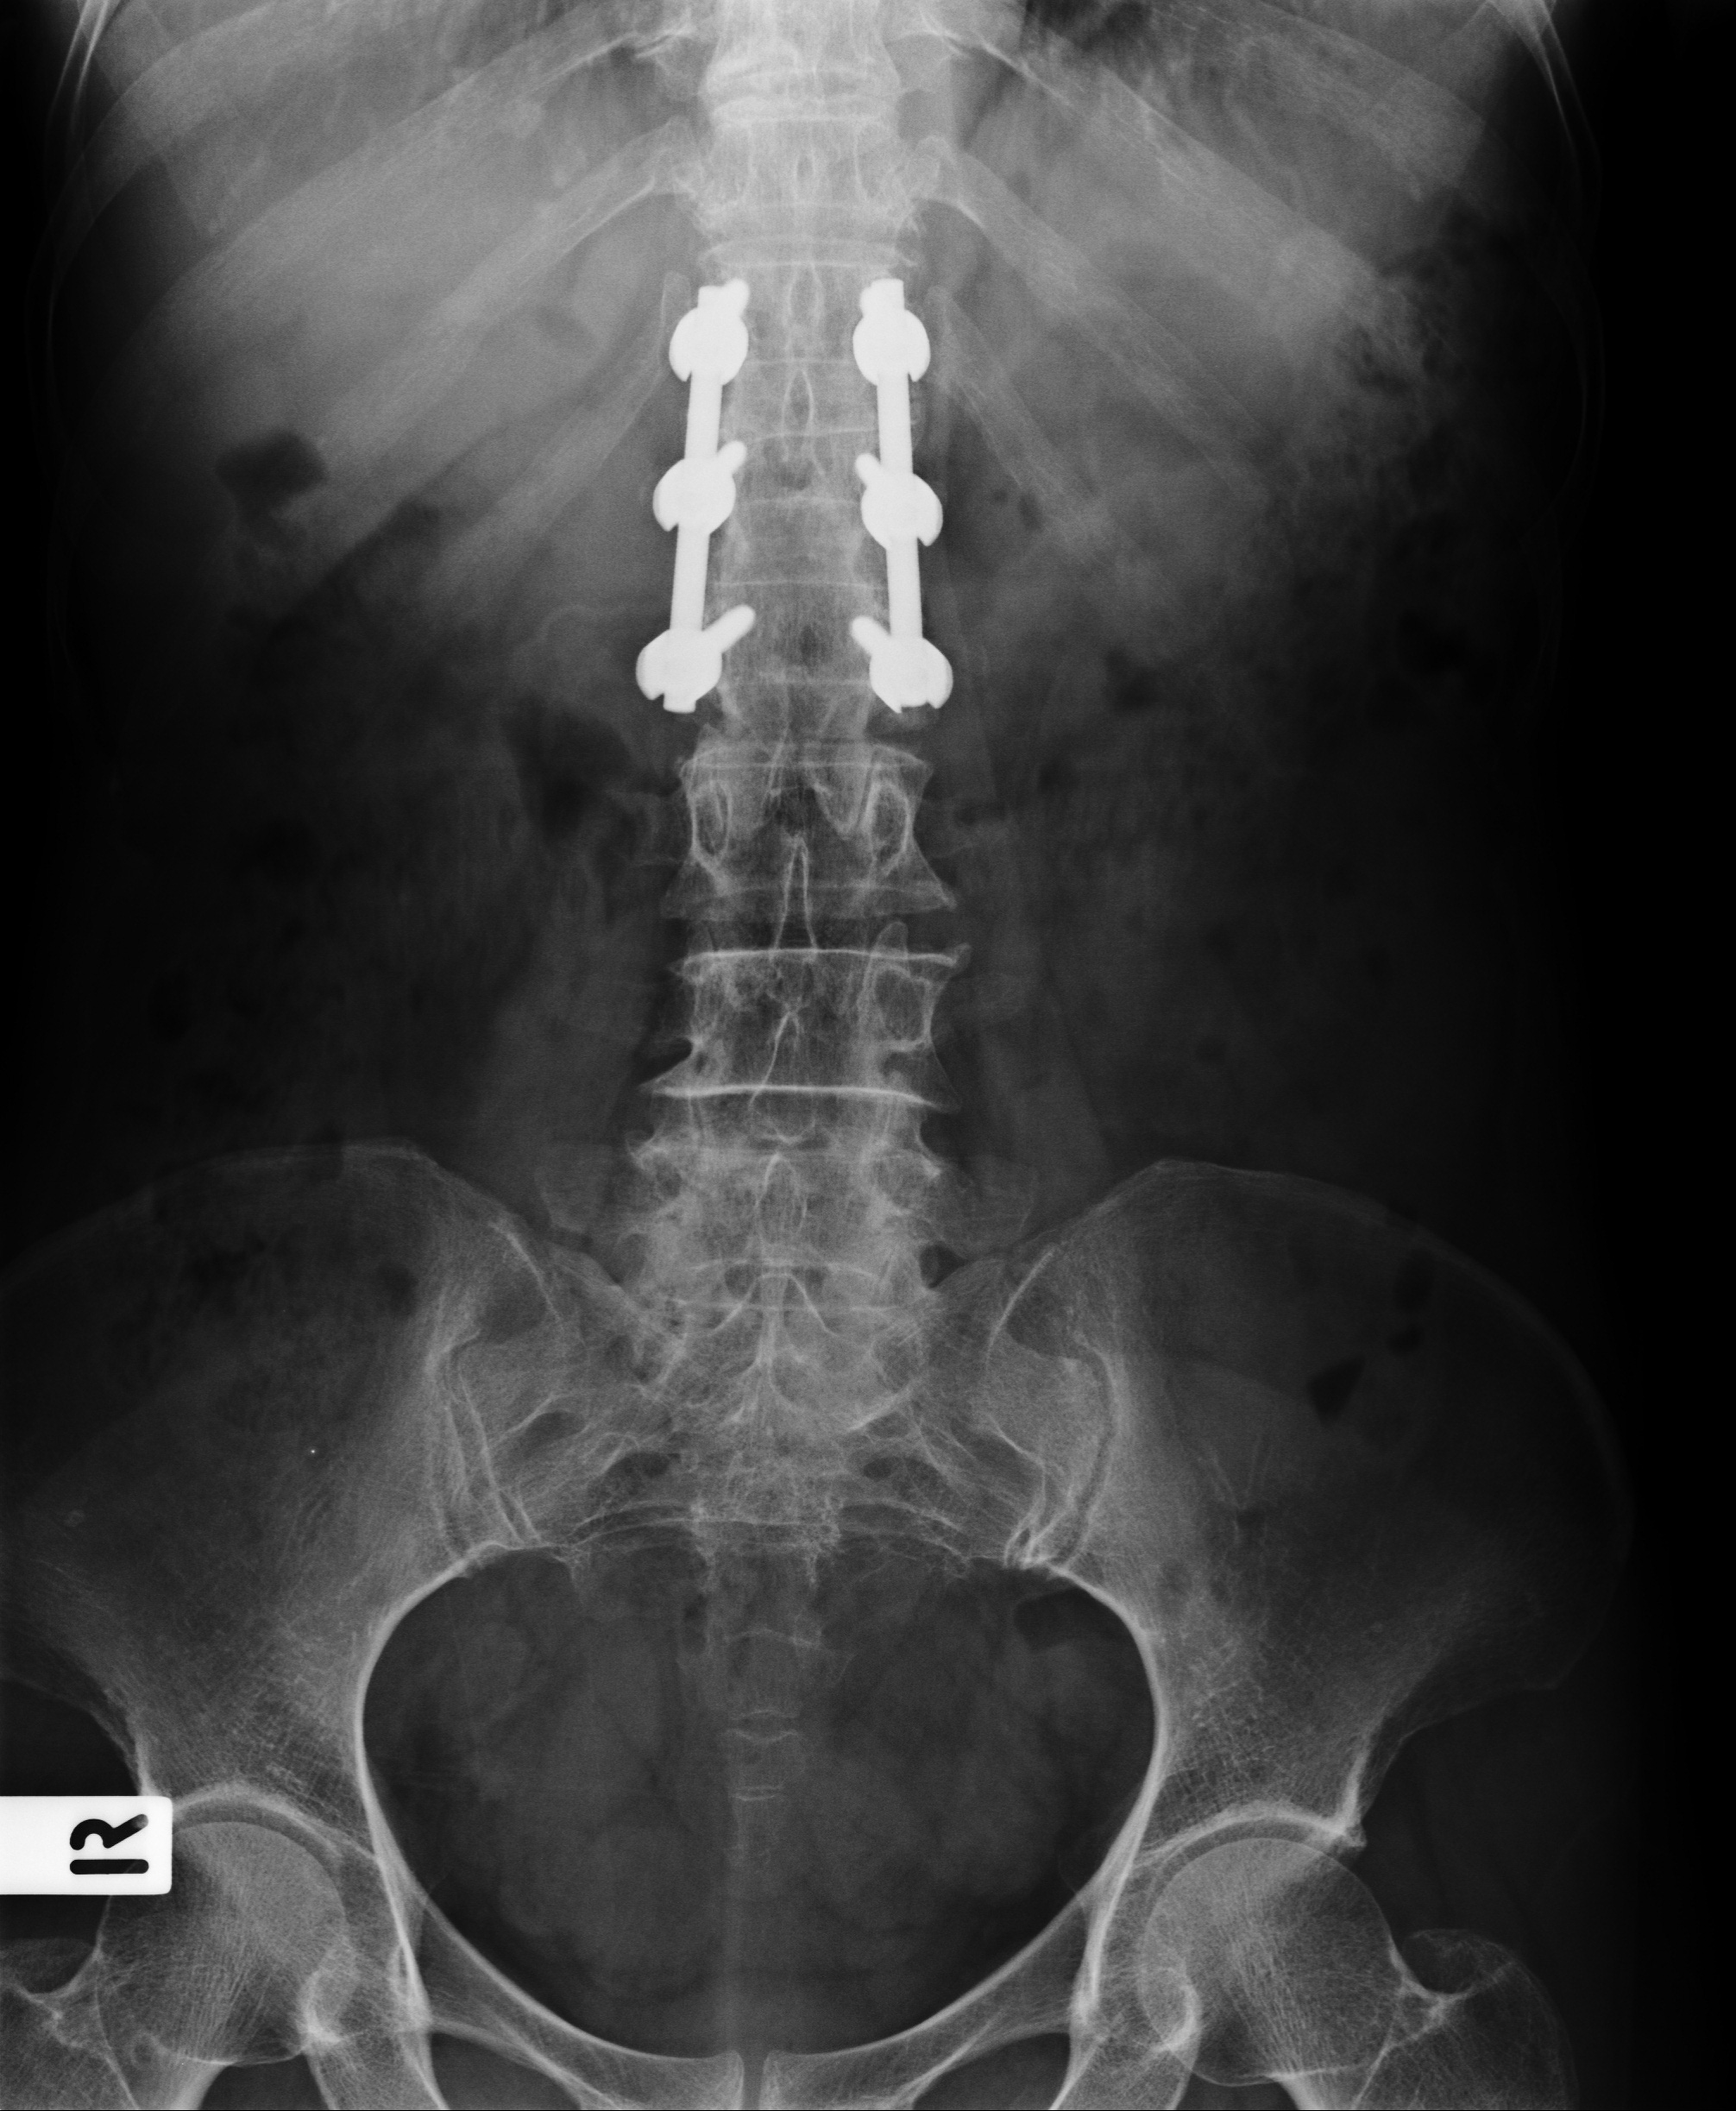lumbar scoliosis: (607, 26, 975, 1324)
